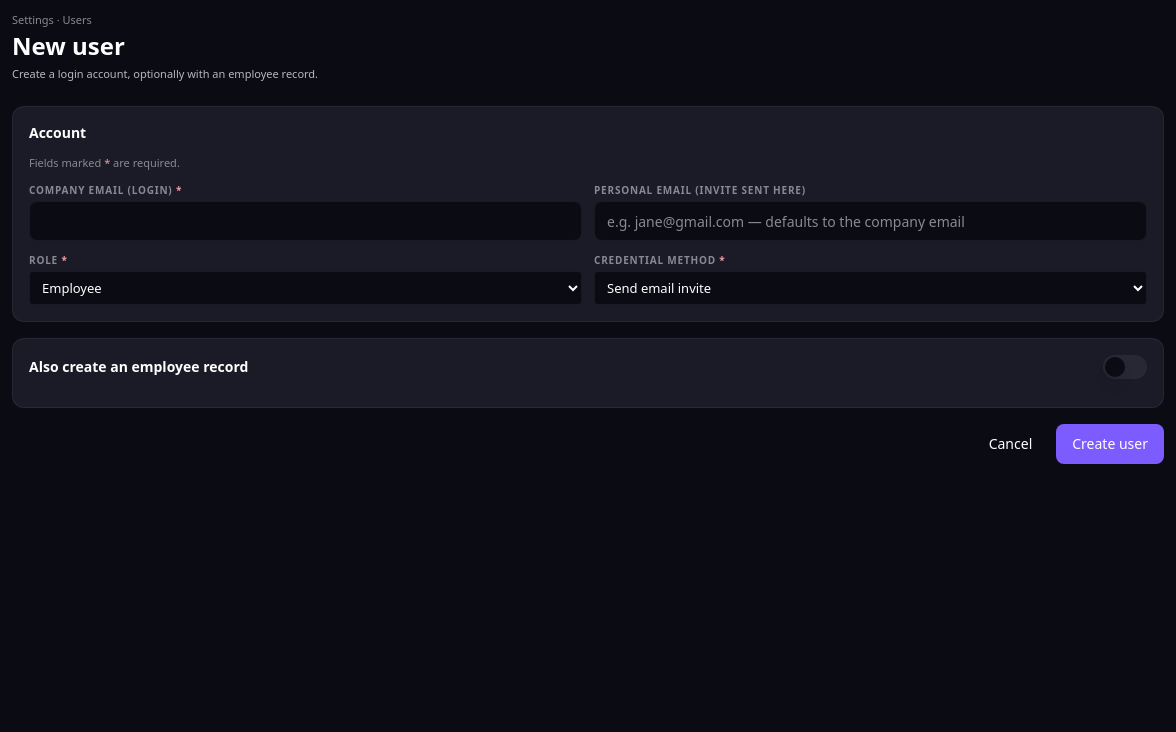
Test: UserCreatePage › Default Leaves panel › shows grant-leave toggle when employee record is on, but not the panel until toggled
Note: turn on employee creation
Click the switch named "create an employee record".
click(1125, 367)  # box [1103,355,1147,379]
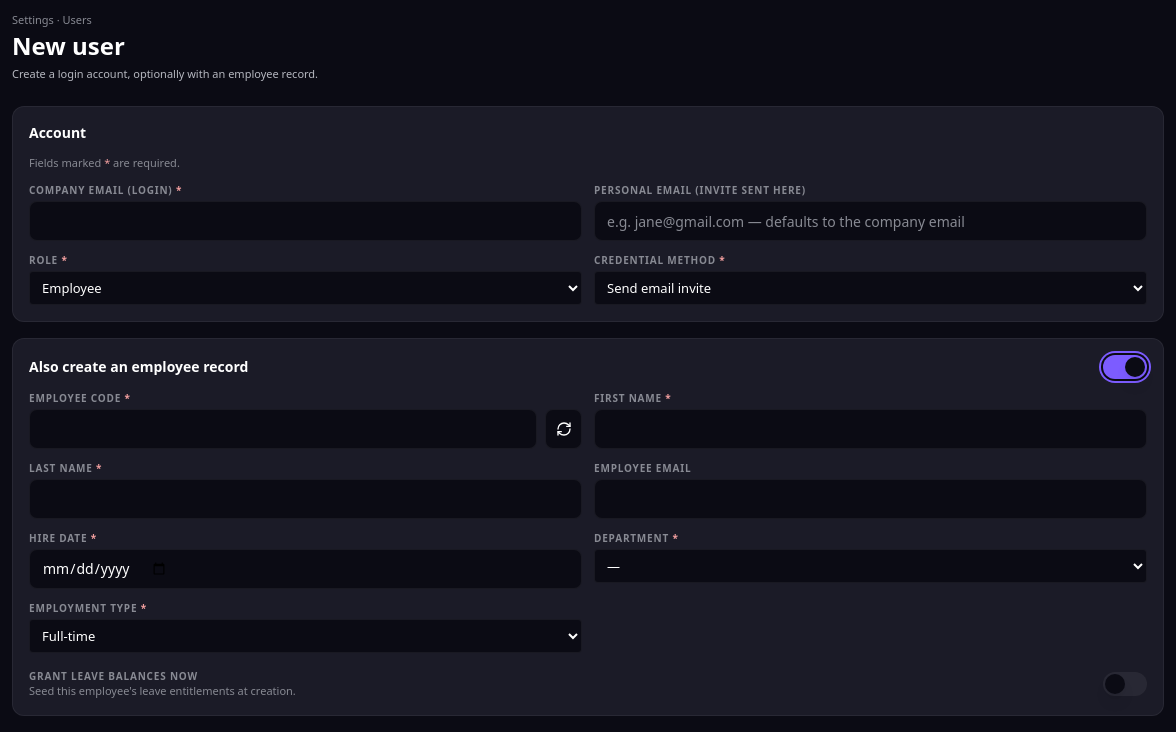
Now the switch named "grant leave balances" is shown, box [1103,672,1147,696]
